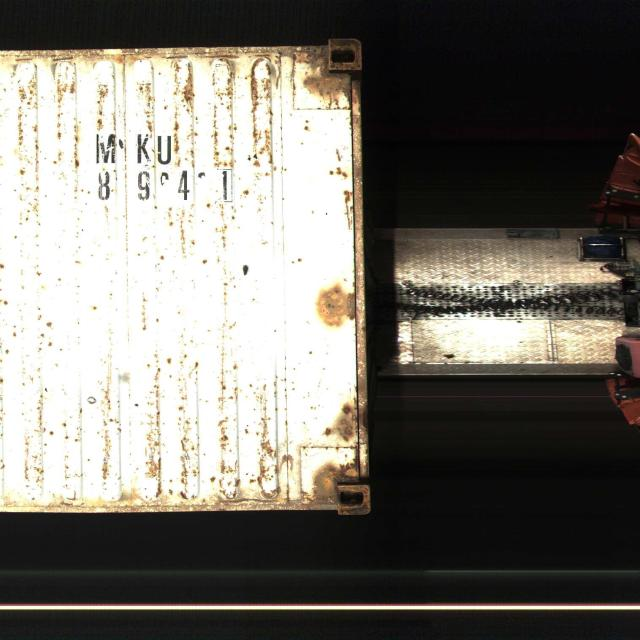rust: (313, 275, 364, 329), (320, 390, 367, 442), (309, 463, 367, 502), (302, 73, 356, 104)
